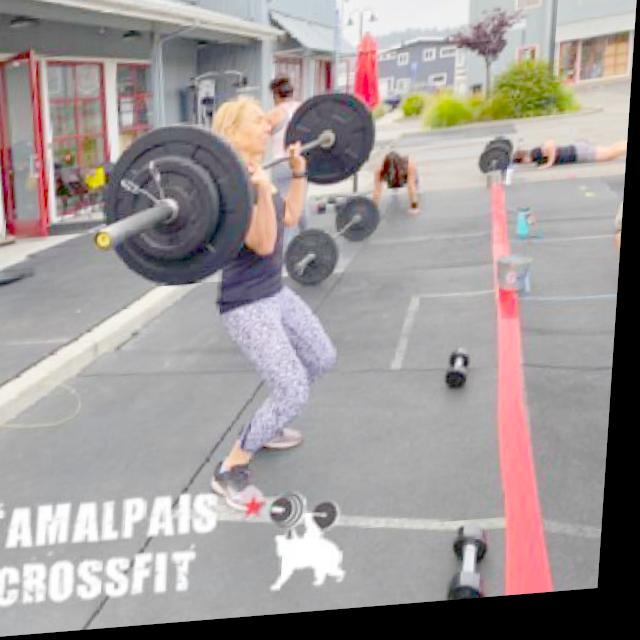barbell: (92, 118, 269, 302), (287, 229, 349, 295)
